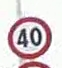limite 40: (6, 16, 52, 58)
